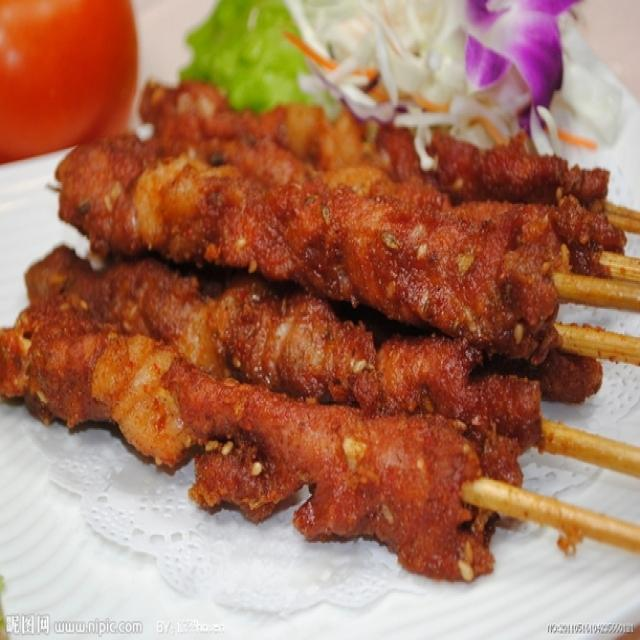烧串烤肉: (8, 42, 628, 610)
